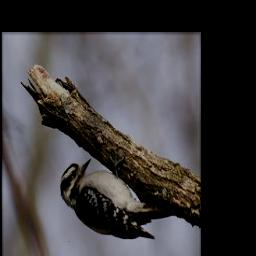Woodpecker: (53, 155, 176, 247)
